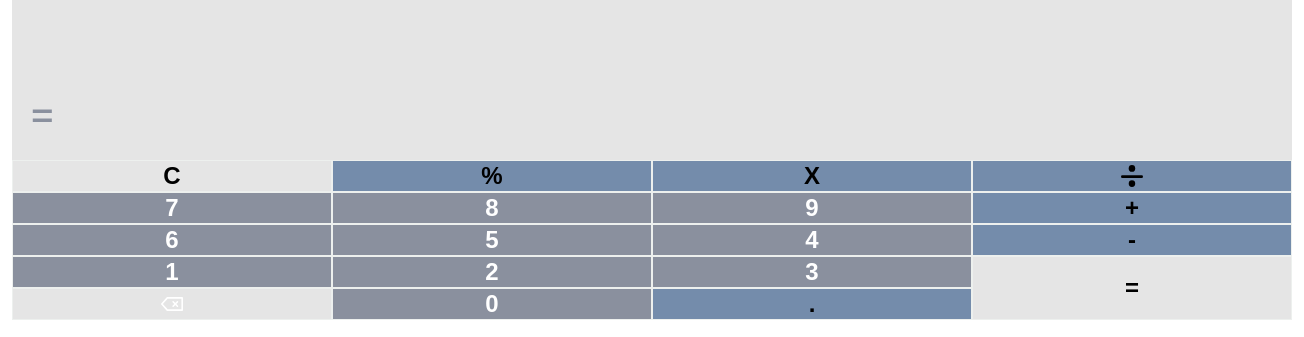
Test: Render SideNav › allow multiple Buttons to reflect on outputs and should show solution if = is clicked
Click the button "2" at (492, 272), box [332,256,652,288]
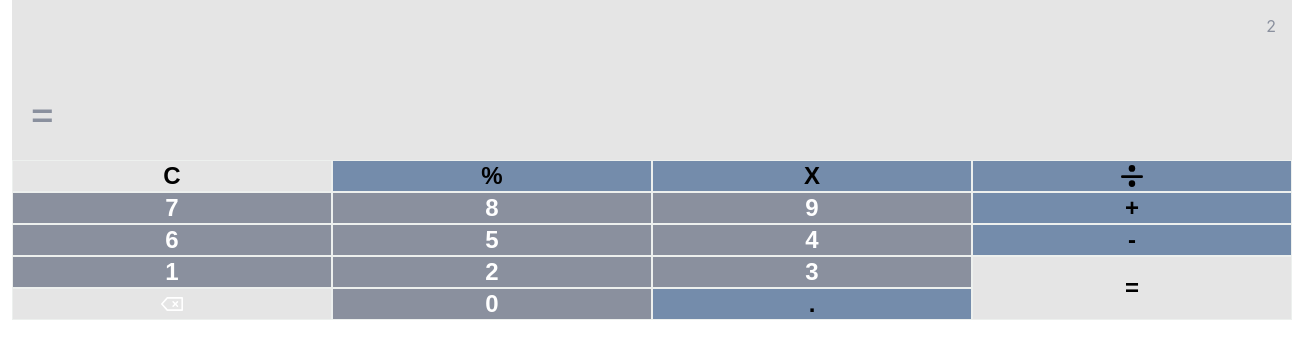
Click the button "X" at (812, 176), box [652,160,972,192]
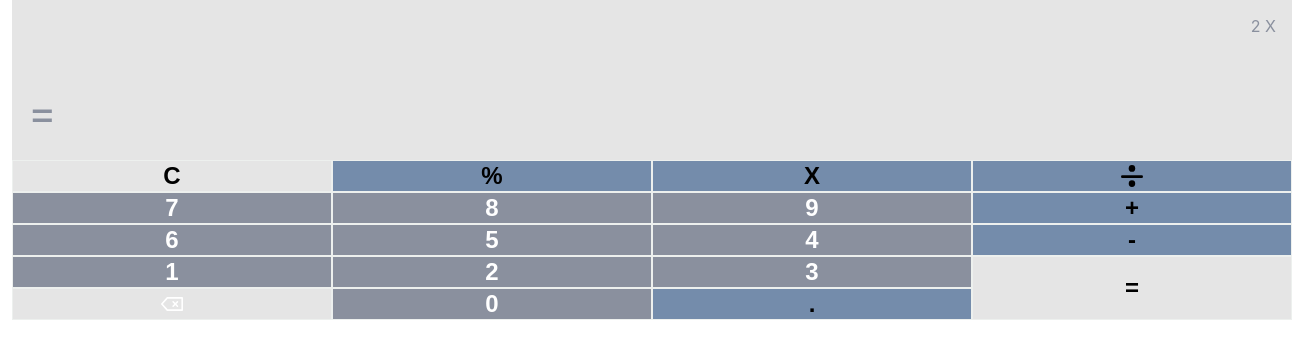
Click the button "4" at (812, 240), box [652,224,972,256]
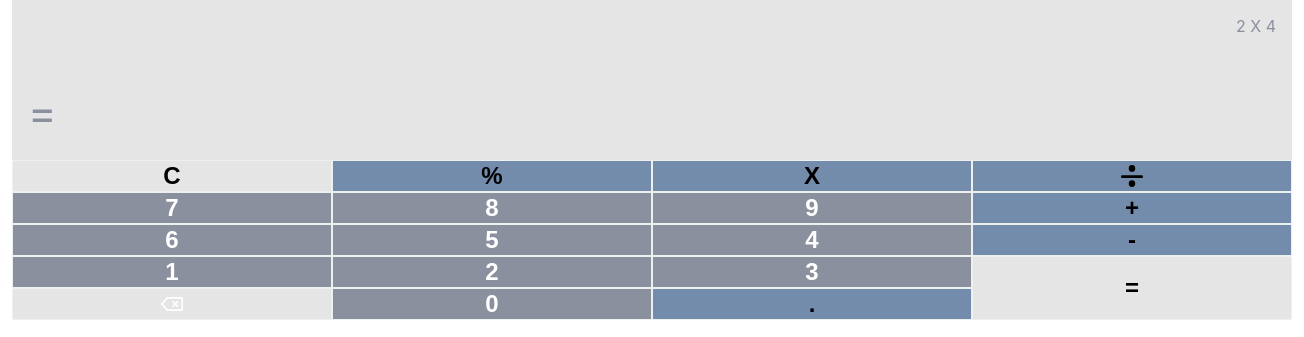
Now the text with test id "current-input" reads "2 X 4", box [1236,16,1276,36]
Click the button with test id "button-=" at (1132, 288), box [972,256,1292,320]
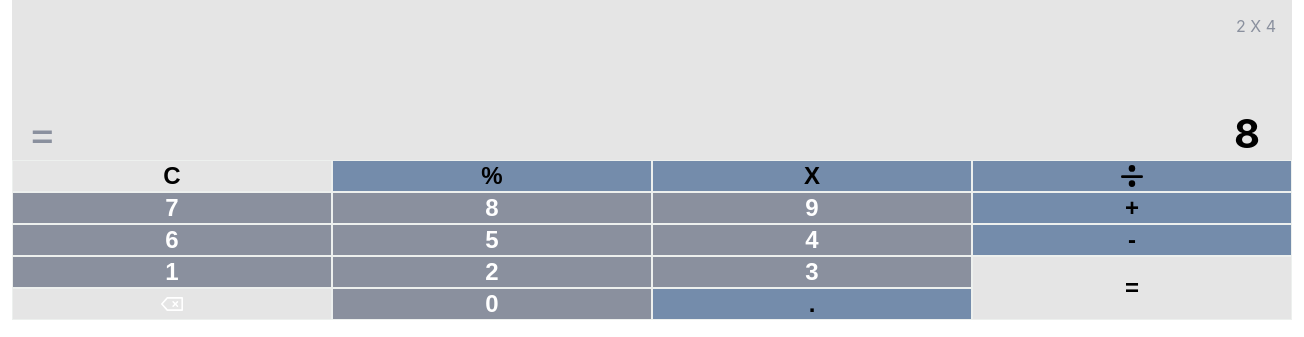
Now the text with test id "current-input" reads "2 X 4", box [1236,16,1276,36]
Now the text with test id "solution" reads "8", box [1234,109,1260,158]
